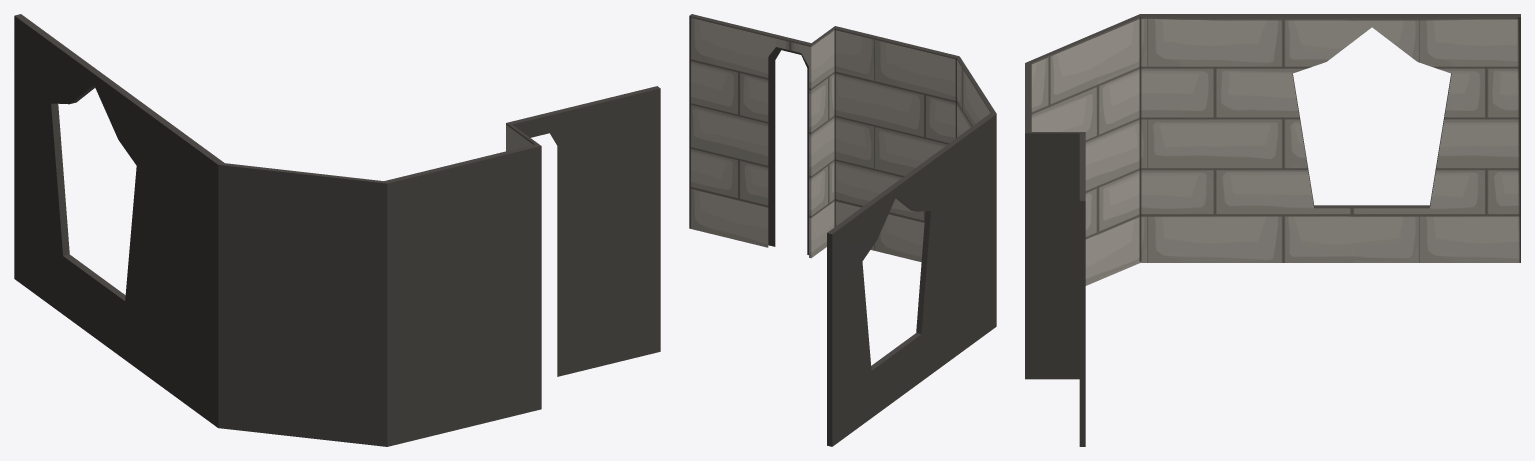
The model's file is SM_wall_LV4.fbx.
3 renders of one model, left to right at view 1: azimuth 30°, elevation 25°; view 2: azimuth 150°, elevation 25°; view 3: azimuth 270°, elevation 25°, orthographic. The views are drawn at different scales.
Visible parts, largest first — view 1: polySurface6; view 2: polySurface6; view 3: polySurface6.
Part boxes in pixels (x1,y1,x2,y2): polySurface6: [14, 14, 660, 446]; polySurface6: [689, 14, 996, 446]; polySurface6: [1025, 14, 1520, 446].
Size of the model in its own units: 1628 by 998 by 1823.
